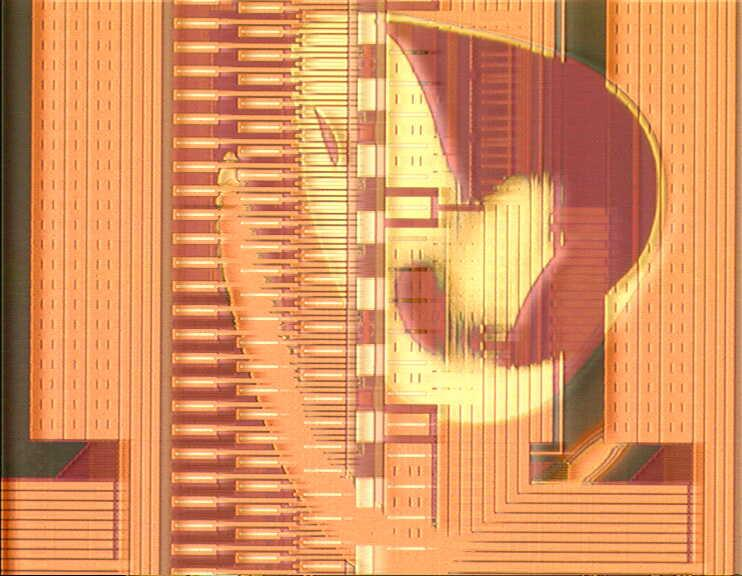BLOCK ETCH: (210, 8, 696, 576)
